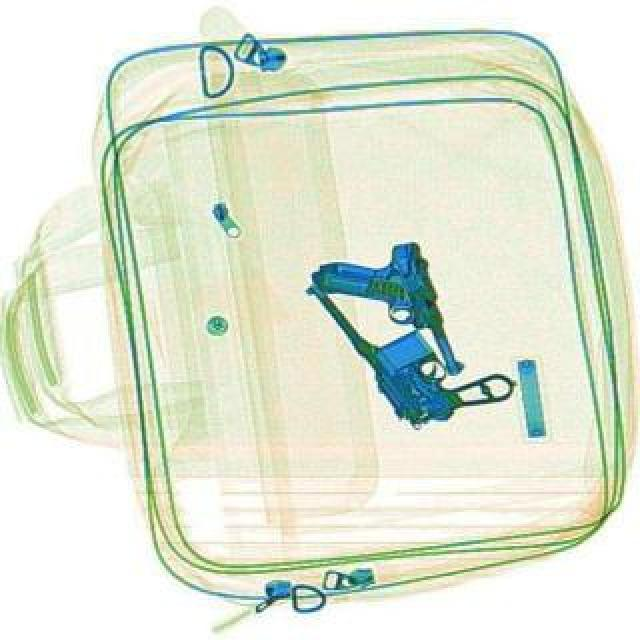gun: (302, 226, 516, 450), (296, 234, 464, 406)
